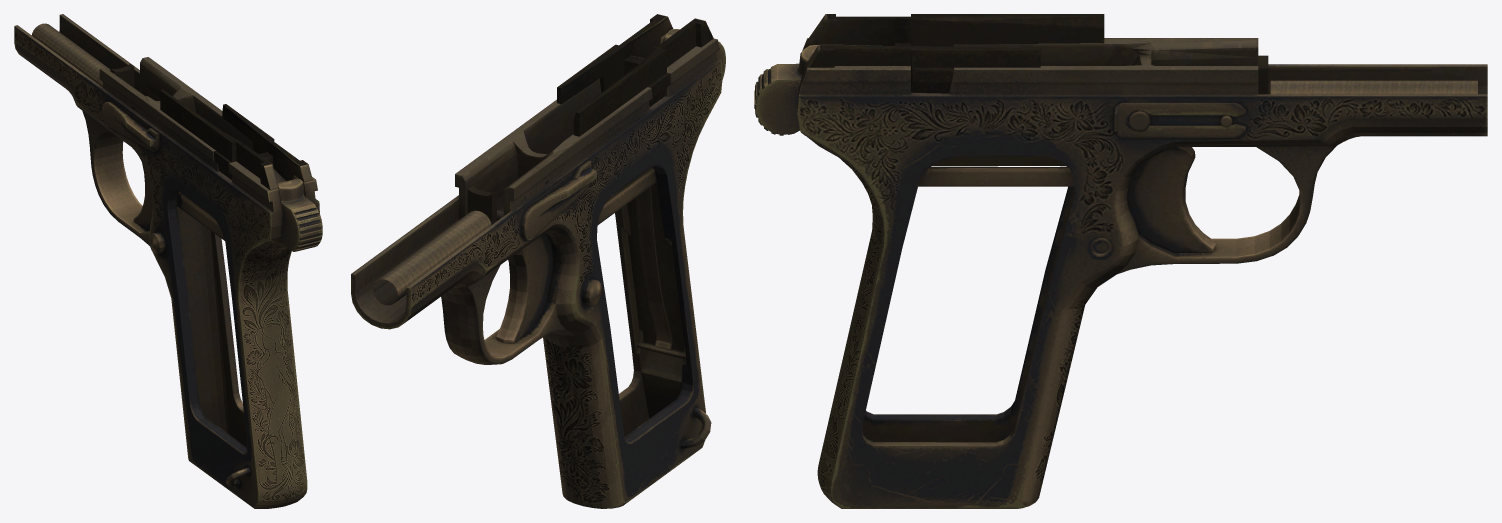
The picture shows the model from 3 angles, left to right: view 1: azimuth 30°, elevation 25°; view 2: azimuth 150°, elevation 25°; view 3: azimuth 270°, elevation 25°; orthographic projection. The views are drawn at different scales.
Visible parts, largest first — view 1: TW_5b3b713c5acfc4330140bd8d_PZ_Import; view 2: TW_5b3b713c5acfc4330140bd8d_PZ_Import; view 3: TW_5b3b713c5acfc4330140bd8d_PZ_Import.
Boxes of the visible parts, bbox=[...] form: TW_5b3b713c5acfc4330140bd8d_PZ_Import: bbox=[14, 14, 322, 508]; TW_5b3b713c5acfc4330140bd8d_PZ_Import: bbox=[351, 14, 725, 508]; TW_5b3b713c5acfc4330140bd8d_PZ_Import: bbox=[754, 14, 1487, 508].
Bounding box in the file's own units: 0.0136 × 0.0917 × 0.0642.
1 material, 1 textured.
